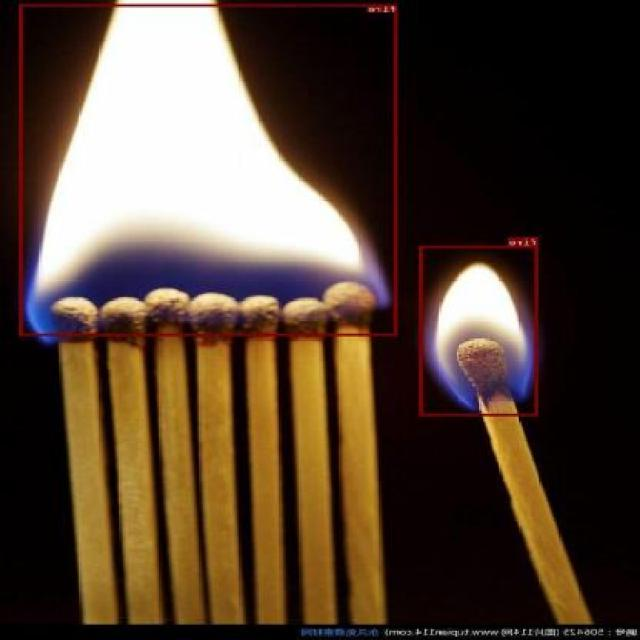fire: (19, 2, 398, 336), (420, 244, 540, 416)
